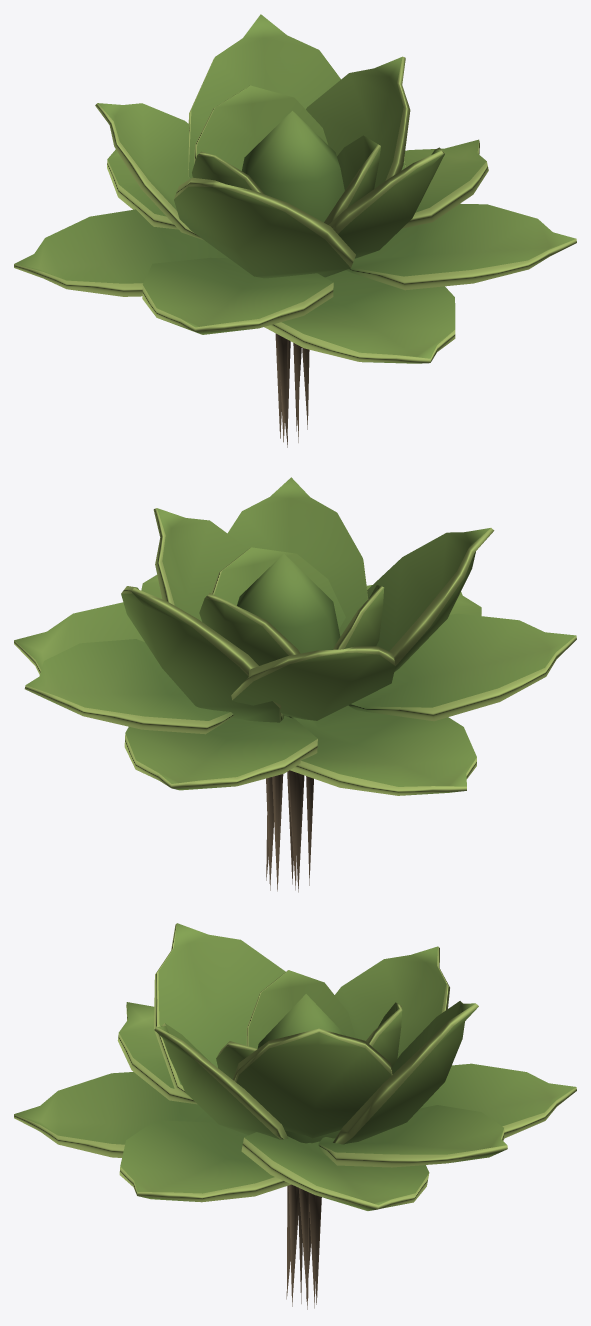
File: plants-cacti-succulents-green-rosette_v1.fbx
The picture shows the model from 3 angles, top to bottom: view 1: azimuth 30°, elevation 25°; view 2: azimuth 150°, elevation 25°; view 3: azimuth 270°, elevation 25°; orthographic projection. The views are drawn at different scales.
Visible parts, largest first — view 1: Green Rosette_v1; view 2: Green Rosette_v1; view 3: Green Rosette_v1.
Boxes of the visible parts, <box> form: Green Rosette_v1: <box>14,14,576,447</box>; Green Rosette_v1: <box>14,477,576,892</box>; Green Rosette_v1: <box>14,923,576,1309</box>.
Bounding box in the file's own units: 0.1335 × 0.0988 × 0.15.
